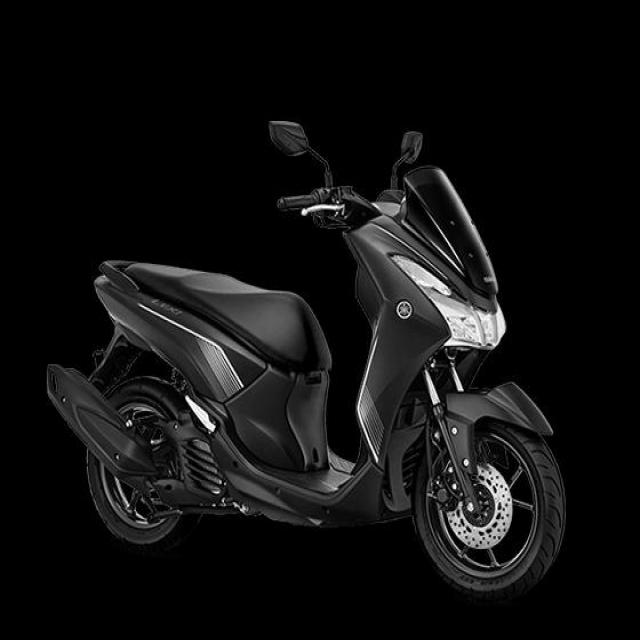Motorcycle: (47, 166, 566, 603)
